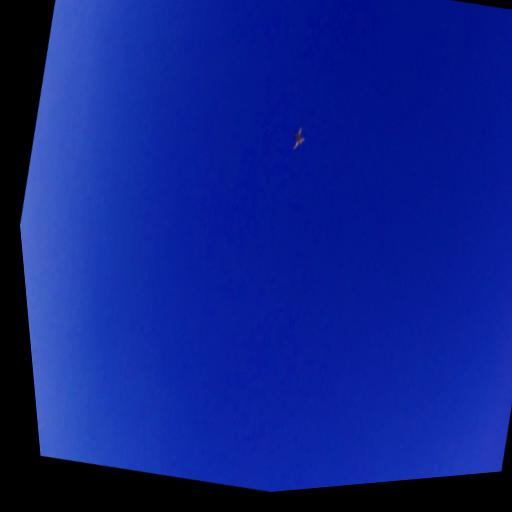drones: (287, 119, 311, 155)
